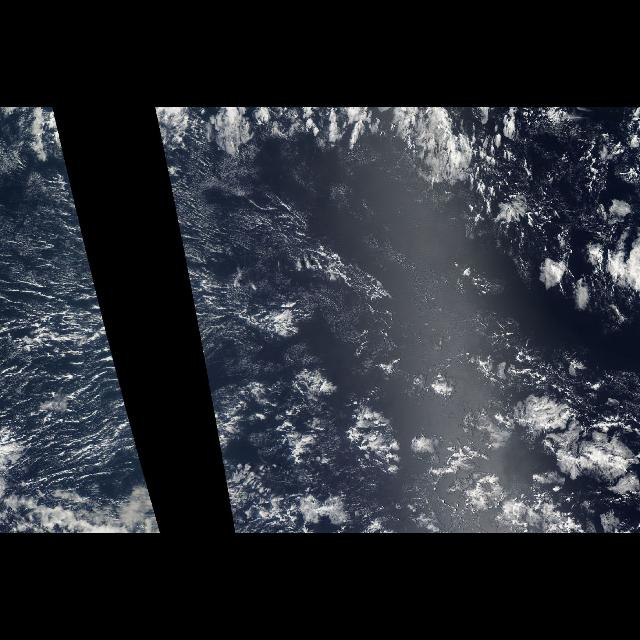Flower: (340, 328, 640, 534)
Sugar: (170, 186, 392, 462), (15, 186, 142, 462)
